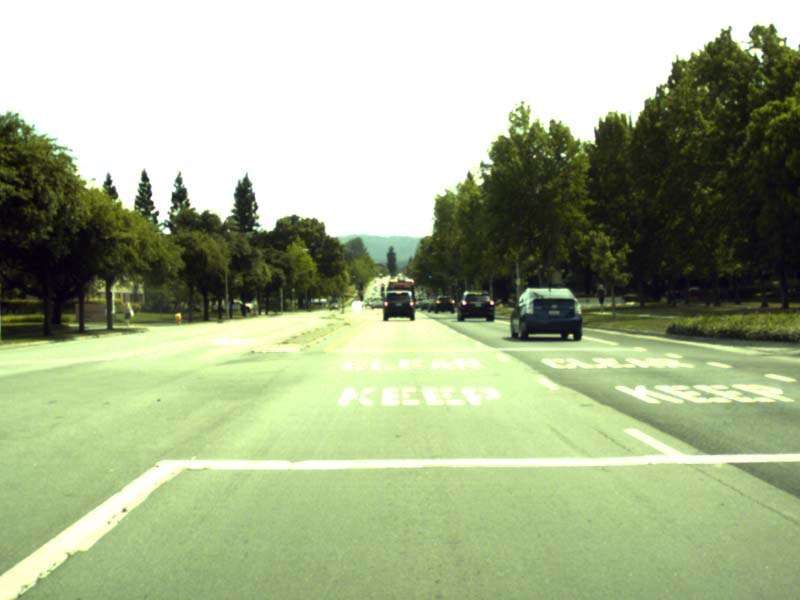Green: (429, 272, 431, 278), (456, 285, 458, 291)
Red: (381, 284, 383, 291)
